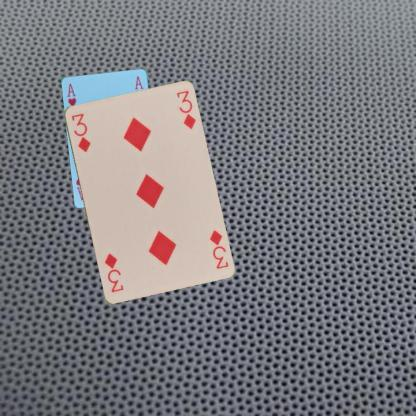3d: (206, 227, 230, 270), (68, 110, 91, 153)
Ah: (64, 80, 78, 108)
